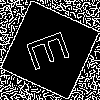E: (25, 25, 80, 73)
